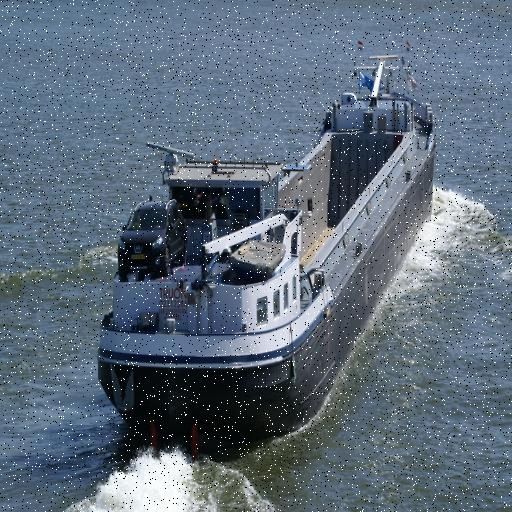tugboat: (97, 39, 441, 470)
